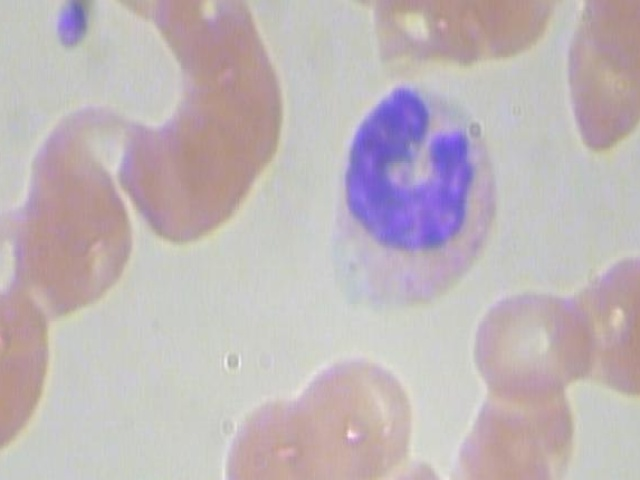Platelets: (54, 0, 99, 55)
RBC: (472, 279, 587, 406), (585, 245, 640, 406), (346, 451, 465, 480), (86, 0, 204, 21), (313, 0, 428, 8)
WBC: (317, 65, 517, 340)
